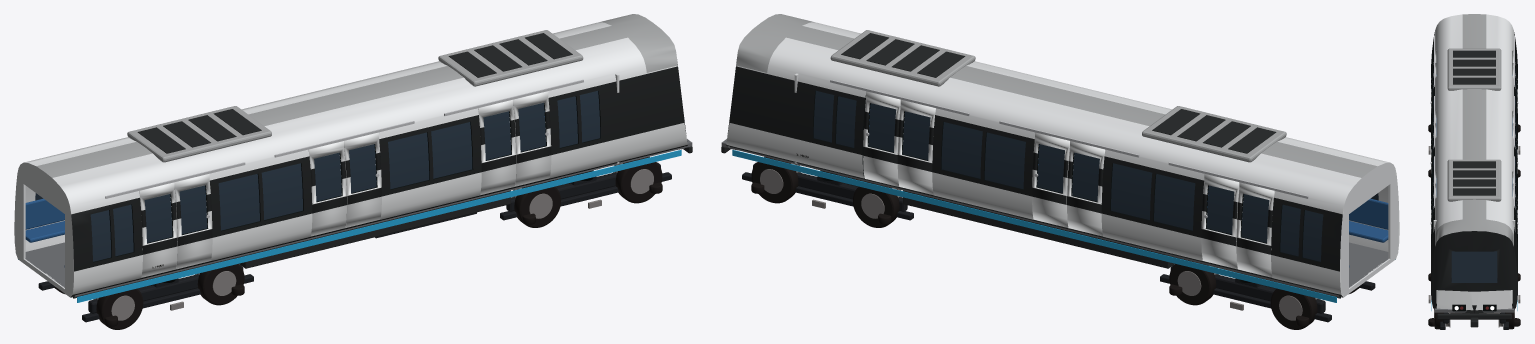
File: mp14_cc__cab.glb
3 renders of one model, left to right at view 1: azimuth 30°, elevation 25°; view 2: azimuth 150°, elevation 25°; view 3: azimuth 270°, elevation 25°, orthographic. The views are drawn at different scales.
Parts seen in each view (by area): view 1: mp14_cc_cab; view 2: mp14_cc_cab; view 3: mp14_cc_cab.
Boxes of the visible parts, left/top/right/bottom form: mp14_cc_cab: left=14, top=14, right=692, bottom=329; mp14_cc_cab: left=721, top=14, right=1399, bottom=329; mp14_cc_cab: left=1428, top=14, right=1520, bottom=329.
Size of the model in its own units: 15.04 by 3.48 by 2.59.
10 materials, 4 textured.
